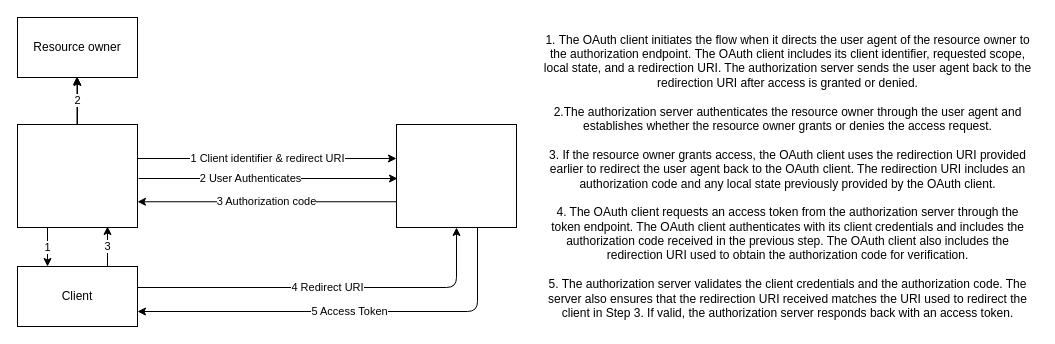
Image size: 1055x344. Some labels were removed from this diagram. Each missing label, with the centre of its shape:
Authorization server: the point at 456,176
User agent: the point at 77,176
